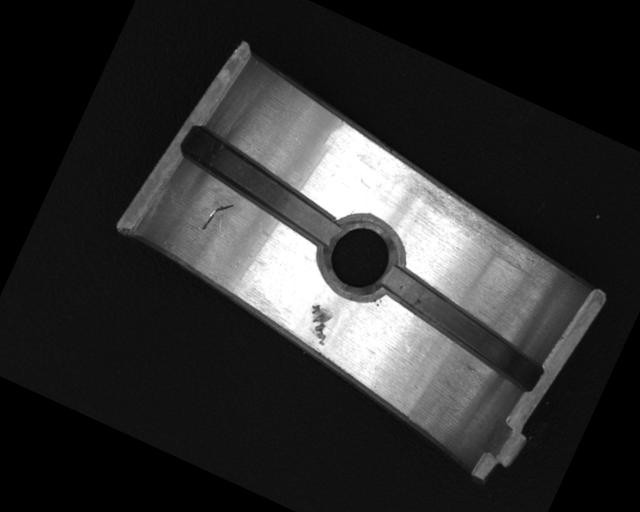bruise: (299, 301, 340, 346)
gap: (368, 264, 558, 393), (169, 123, 353, 248)
hole: (310, 205, 412, 308)
nick: (199, 195, 234, 237)
scratch: (391, 169, 550, 277)
